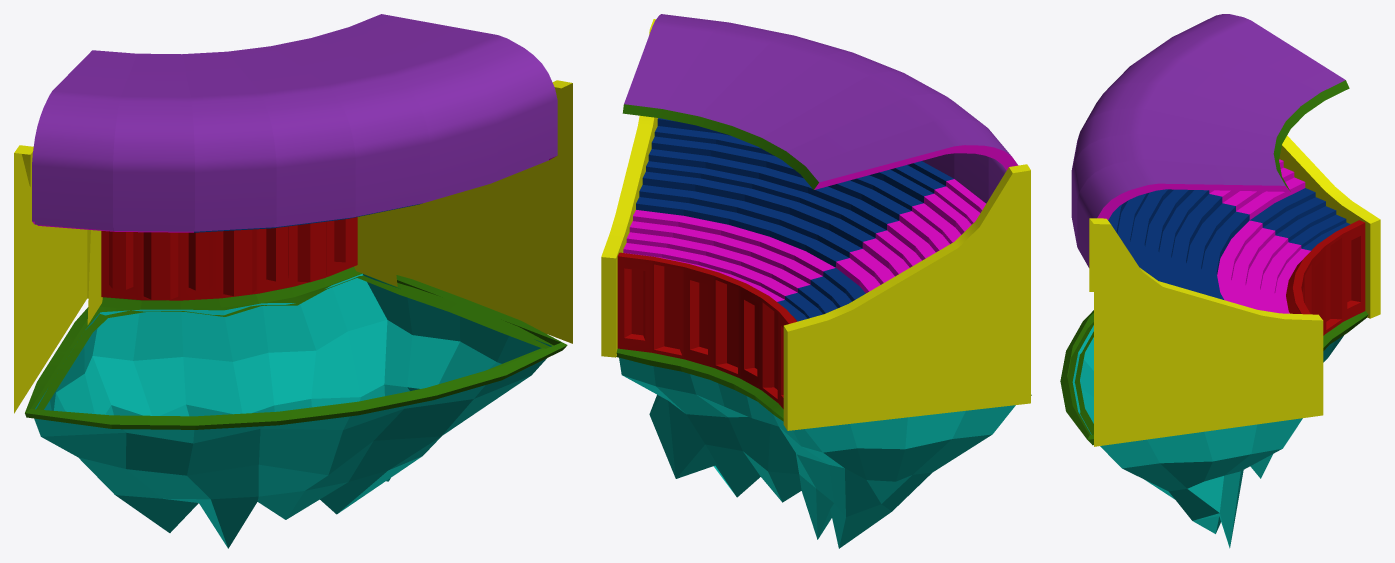
Rendered from export stands 1.fbx.
The picture shows the model from 3 angles, left to right: view 1: azimuth 30°, elevation 25°; view 2: azimuth 150°, elevation 25°; view 3: azimuth 270°, elevation 25°; orthographic projection. The views are drawn at different scales.
Parts seen in each view (by area): view 1: stands; view 2: stands; view 3: stands.
Part boxes in pixels (x1=…): stands: x1=14, y1=14, x2=572, y2=548; stands: x1=601, y1=14, x2=1031, y2=548; stands: x1=1060, y1=14, x2=1380, y2=548.
Bounding box in the file's own units: 7578 × 7227 × 5013.
